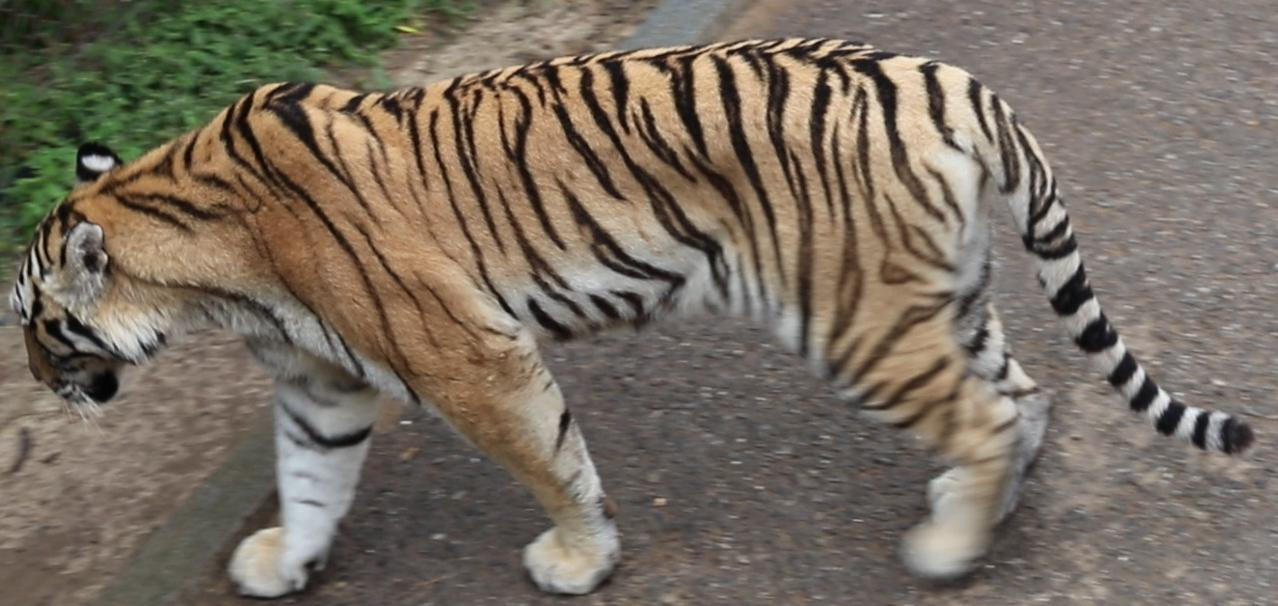tiger: (10, 40, 1251, 597)
